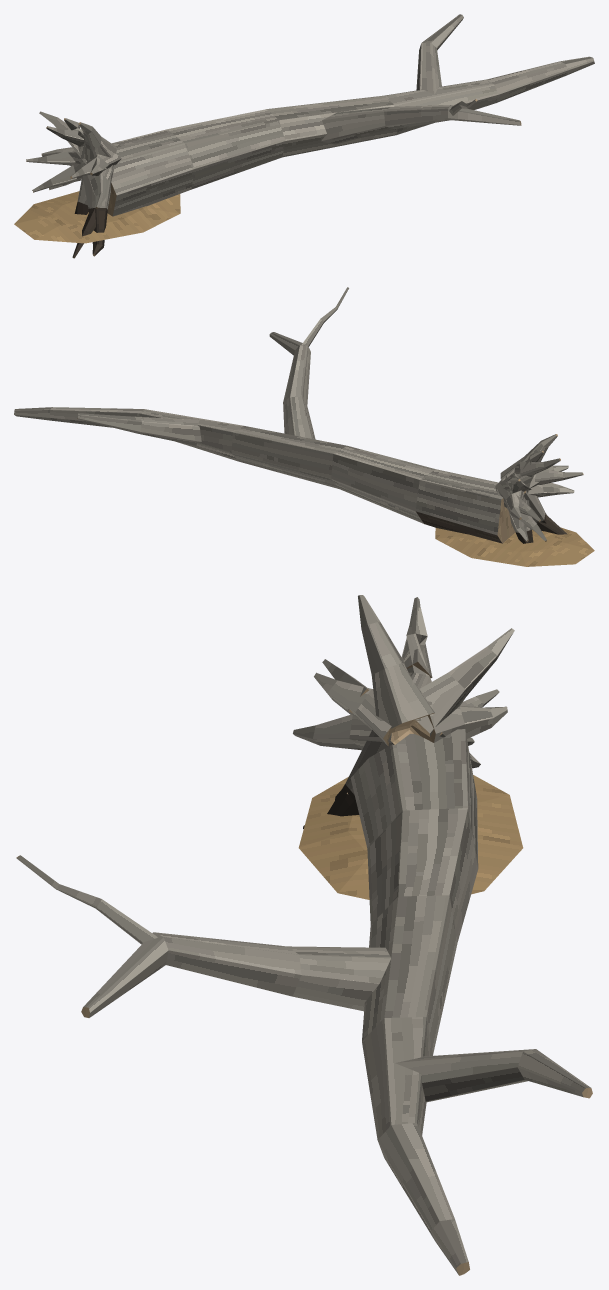
The model's file is upturned-oak.glb.
3 renders of one model, top to bottom at view 1: azimuth 30°, elevation 25°; view 2: azimuth 150°, elevation 25°; view 3: azimuth 270°, elevation 25°, orthographic. The views are drawn at different scales.
Visible parts, largest first — view 1: upturned-oak; view 2: upturned-oak; view 3: upturned-oak.
Boxes of the visible parts, box(x1,y1,x2,y2) form: upturned-oak: box(14, 14, 594, 258); upturned-oak: box(14, 287, 594, 566); upturned-oak: box(16, 595, 592, 1275).
Bounding box in the file's own units: 11.09 × 2.52 × 4.96.
Materials: 4 (4 with a texture image).
